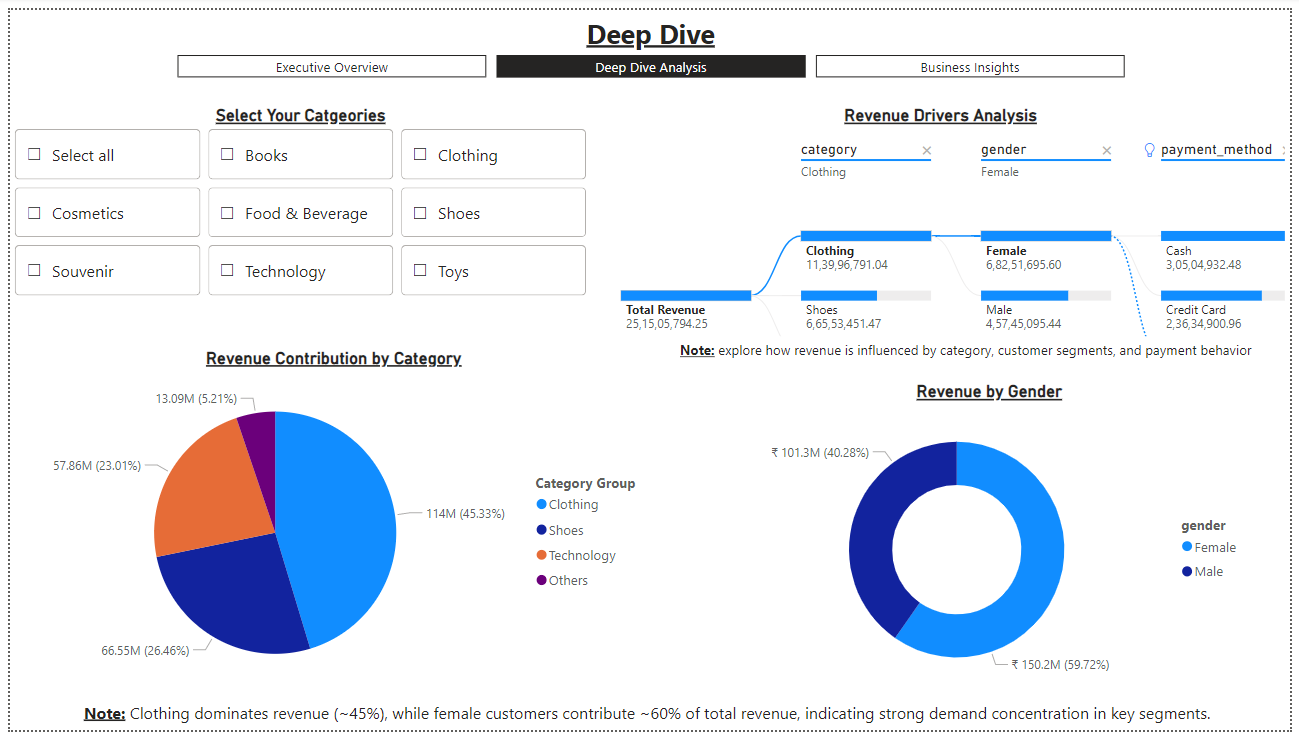

The page's visual inventory and layout, read from the dashboard file:
{"tool":"powerbi","page":{"name":"Deep Dive Analysis","canvas":[1280,720],"ordinal":1},"visuals":[{"type":"textbox","box":[496.2,0,288.8,45],"z":0},{"type":"pieChart","title":"Revenue Contribution by Category","fields":{"Y":["customer_shopping_data.Total Revenue"],"Category":["customer_shopping_data.Category Group"]},"box":[0,337.5,647.5,351.2],"z":1000},{"type":"donutChart","title":"Revenue by Gender","fields":{"Category":["customer_shopping_data.gender"],"Y":["customer_shopping_data.Total Revenue"]},"box":[717.5,371.2,523.8,317.5],"z":2000},{"type":"advancedSlicerVisual","title":"Select Your Catgeories","fields":{"Values":["customer_shopping_data.category"]},"box":[0,95,581.2,197.5],"z":3000},{"type":"textbox","box":[68.8,686.2,1145,33.8],"z":4000},{"type":"pageNavigator","box":[167.5,45,948.8,22.5],"z":5000},{"type":"decompositionTreeVisual","title":"Revenue Drivers Analysis","fields":{"Analyze":["customer_shopping_data.Total Revenue"],"ExplainBy":["customer_shopping_data.category","customer_shopping_data.gender","customer_shopping_data.payment_method"]},"box":[581.2,95,698.8,242.5],"z":6000},{"type":"textbox","box":[665,326.2,615,33.8],"z":7000}]}

Visuals, with their boxes in screenshot pixels (x1, y1, x2, y2), scaled from the page's 1280x720 canvas onto the 1299x738 screenshot:
textbox: (x1=504, y1=0, x2=797, y2=46)
"Revenue Contribution by Category" pieChart: (x1=0, y1=346, x2=657, y2=706)
"Revenue by Gender" donutChart: (x1=728, y1=380, x2=1260, y2=706)
"Select Your Catgeories" advancedSlicerVisual: (x1=0, y1=97, x2=590, y2=300)
textbox: (x1=70, y1=703, x2=1232, y2=737)
pageNavigator: (x1=170, y1=46, x2=1133, y2=69)
"Revenue Drivers Analysis" decompositionTreeVisual: (x1=590, y1=97, x2=1298, y2=346)
textbox: (x1=675, y1=334, x2=1298, y2=369)
